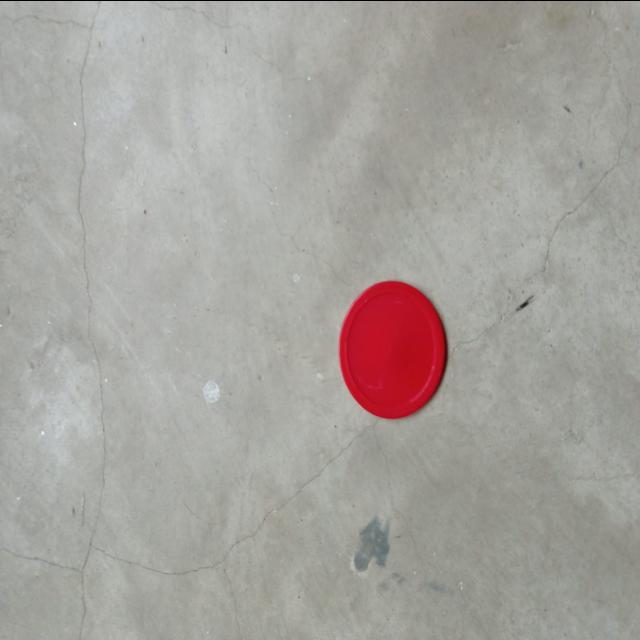chip: (338, 276, 448, 422)
